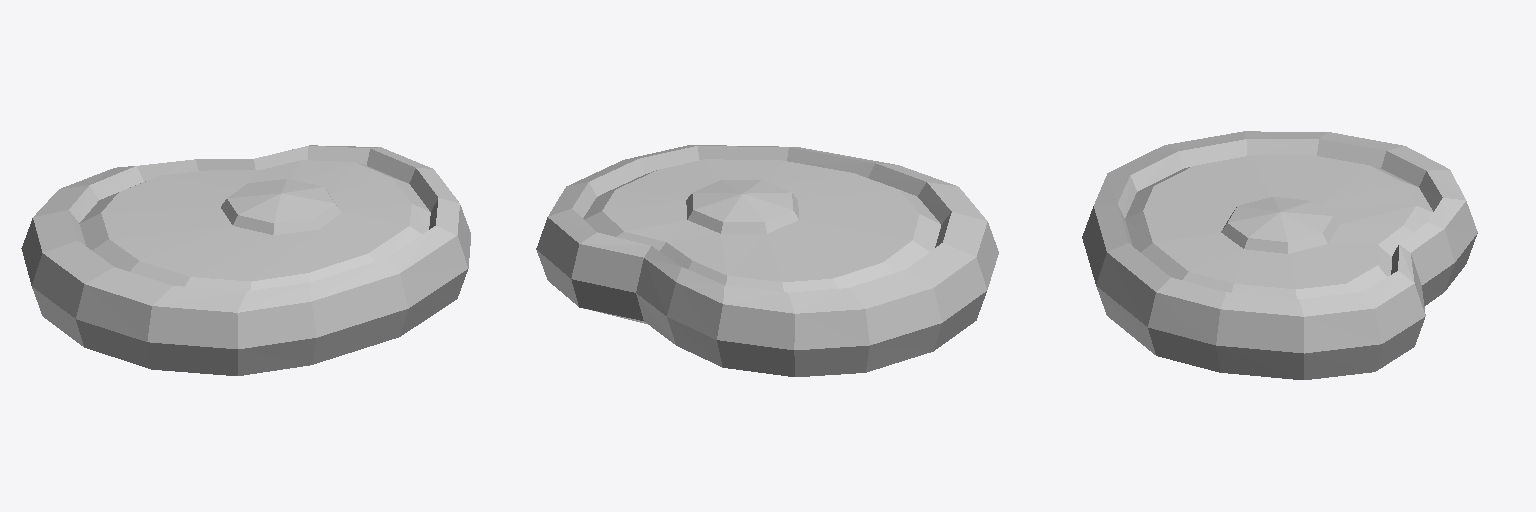
Rendered from food_ingredient_steak.obj.
3 renders of one model, left to right at view 1: azimuth 30°, elevation 25°; view 2: azimuth 150°, elevation 25°; view 3: azimuth 270°, elevation 25°, orthographic.
Parts seen in each view (by area): view 1: food_ingredient_steak_Cylinder.062; view 2: food_ingredient_steak_Cylinder.062; view 3: food_ingredient_steak_Cylinder.062.
Part boxes in pixels (x1,y1,x2,y2): food_ingredient_steak_Cylinder.062: (21,145,470,375); food_ingredient_steak_Cylinder.062: (536,145,998,376); food_ingredient_steak_Cylinder.062: (1082,131,1477,379).
Size of the model in its own units: 1.05 by 0.2832 by 0.9025.